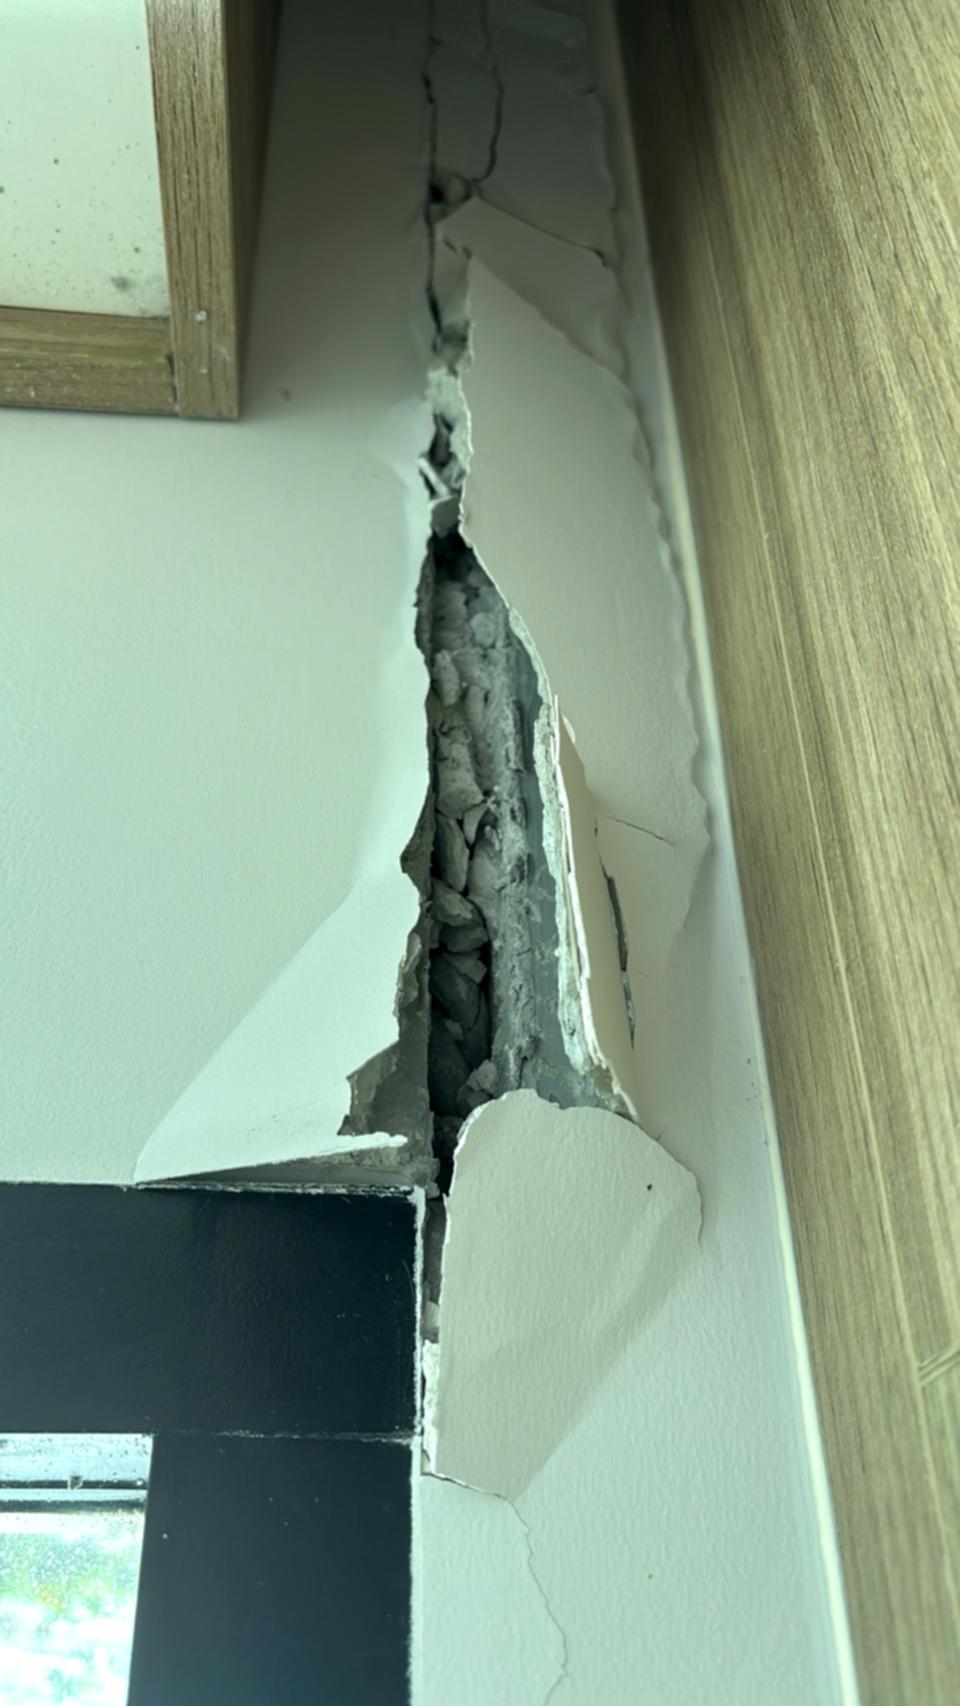High: (277, 4, 745, 1706)
